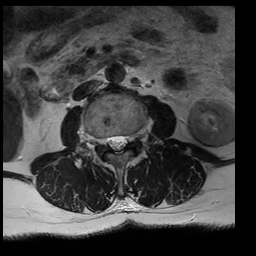CCS_normal: (115, 129, 122, 157)
LFS_stenosis: (129, 127, 137, 147)
LLS_normal: (122, 129, 129, 152)
RFS_stenosis: (99, 129, 107, 154)
RLS_normal: (108, 130, 115, 152)
